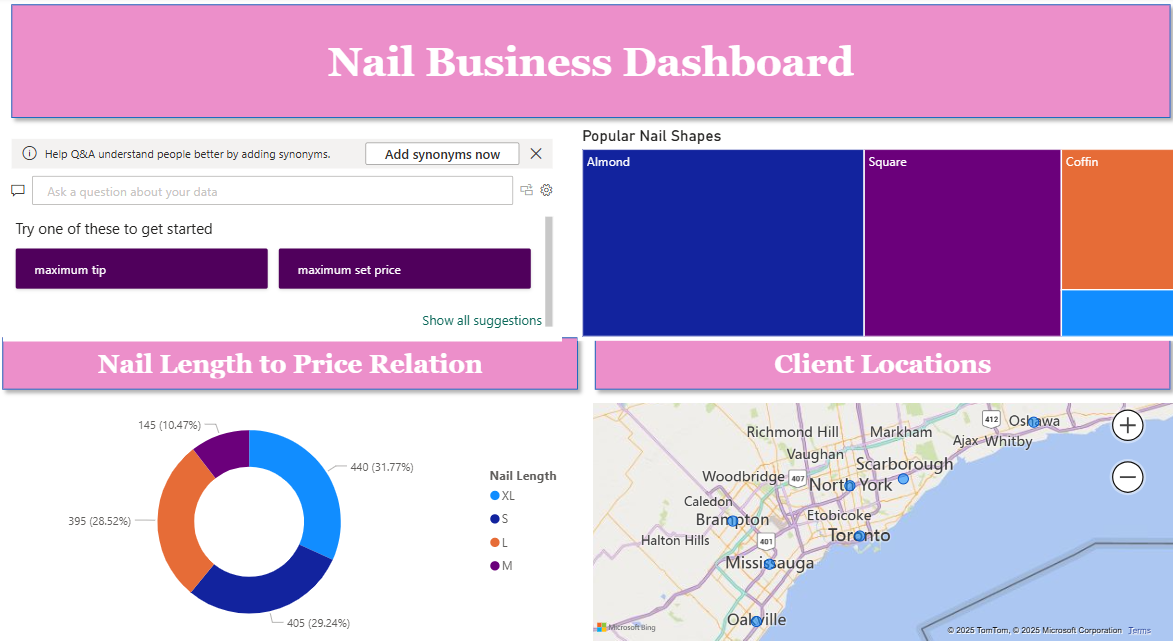

What the dashboard file says about the page in this screenshot:
{"tool":"powerbi","page":{"name":"Page 1","canvas":[1280,720],"ordinal":0},"visuals":[{"type":"shape","box":[9.7,0,1269.5,140.9],"z":0},{"type":"shape","box":[0,359.5,639.6,74.5],"z":1000},{"type":"shape","box":[639.6,359.5,639.6,74.5],"z":2000},{"type":"qnaVisual","box":[9.7,140.9,602.4,231.5],"z":3000},{"type":"donutChart","fields":{"Category":["Sample_Nail_Business_Dataset.Nail Length"],"Y":["Sum(Sample_Nail_Business_Dataset.Set Price)"]},"box":[11.3,434,618.5,267.2],"z":4000},{"type":"map","fields":{"Category":["Sample_Nail_Business_Dataset.Client Location"]},"box":[641.2,434,638,267.2],"z":4001},{"type":"treemap","title":"Popular Nail Shapes","fields":{"Values":["CountNonNull(Sample_Nail_Business_Dataset.Nail Shape)"],"Group":["Sample_Nail_Business_Dataset.Nail Shape"]},"box":[629.9,140.9,649.3,231.5],"z":4002}]}

Visuals, with their boxes in screenshot pixels (x1, y1, x2, y2), scaled from the page's 1280x720 canvas onto the 1173x642 screenshot:
shape: <region>9, 0, 1172, 126</region>
shape: <region>0, 321, 586, 387</region>
shape: <region>586, 321, 1172, 387</region>
qnaVisual: <region>9, 126, 561, 332</region>
donutChart - Sample_Nail_Business_Dataset.Nail Length x Sum(Sample_Nail_Business_Dataset.Set Price): <region>10, 387, 577, 625</region>
map - Sample_Nail_Business_Dataset.Client Location: <region>588, 387, 1172, 625</region>
"Popular Nail Shapes" treemap: <region>577, 126, 1172, 332</region>
